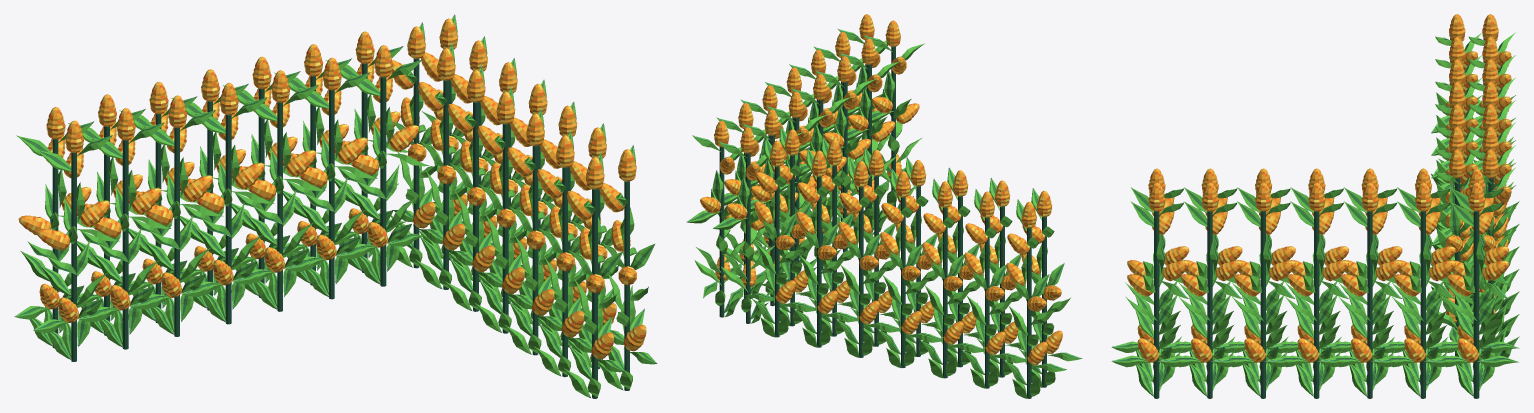
File: Esquina.fbx
3 renders of one model, left to right at view 1: azimuth 30°, elevation 25°; view 2: azimuth 150°, elevation 25°; view 3: azimuth 270°, elevation 25°, orthographic. The views are drawn at different scales.
Parts seen in each view (by area): view 1: CHOCLO.278; view 2: CHOCLO.278; view 3: CHOCLO.278.
Part boxes in pixels (bbox=[...]): CHOCLO.278: bbox=[14, 14, 657, 398]; CHOCLO.278: bbox=[686, 14, 1082, 398]; CHOCLO.278: bbox=[1111, 14, 1519, 398].
Bounding box in the file's own units: 458 × 232 × 398.
42 materials, 42 textured.
